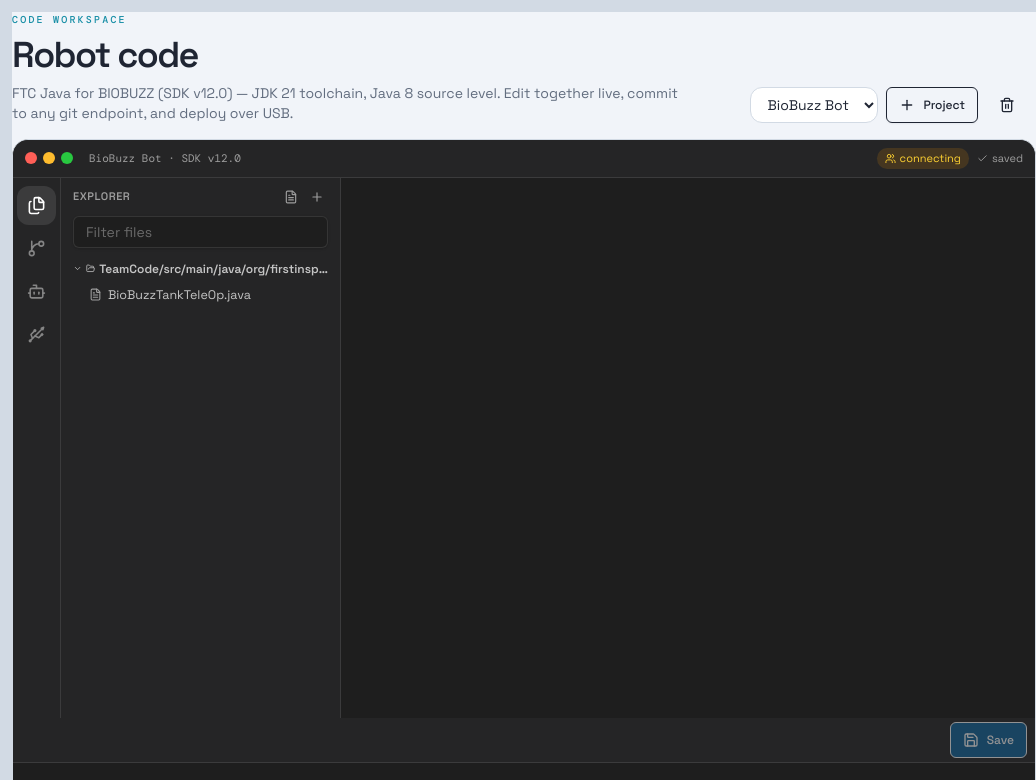
Test: code workspace › opens the AI pane with prompt and line-range editing
This screenshot has width=1036, height=780.
Click the button with test id "code-side-ai" at (36, 291), box [17,272,56,310]
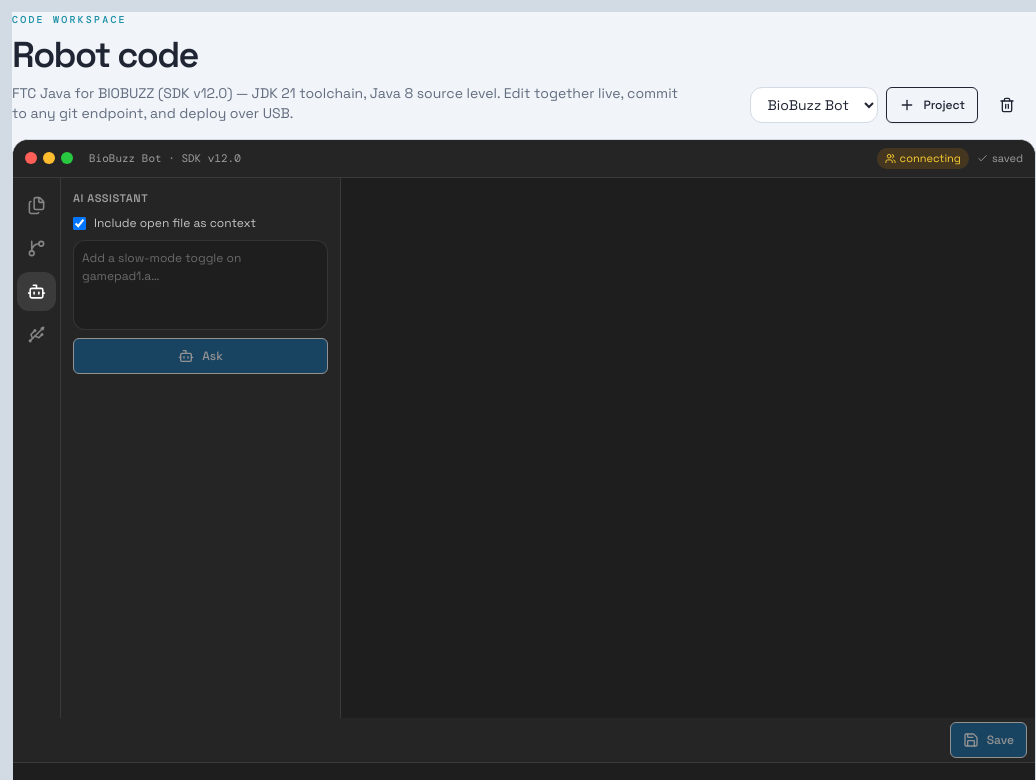
Now the text box with test id "code-ai-prompt" is shown, box [73,240,328,330]
Now the button with test id "code-ai-ask" is shown, box [73,338,328,374]
